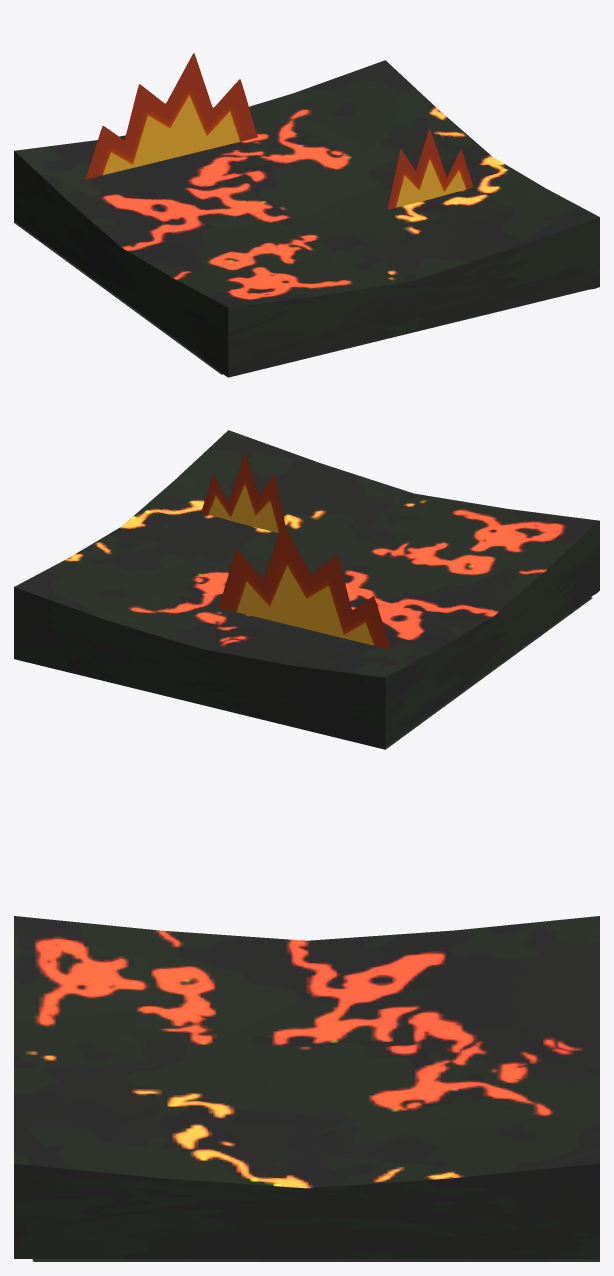
File: 3FireTile1.fbx
3 views of the same model, one above another, from view 1: azimuth 30°, elevation 25°; view 2: azimuth 150°, elevation 25°; view 3: azimuth 270°, elevation 25° (orthographic). The views are drawn at different scales.
Visible parts, largest first — view 1: 3FireTile1, 3BurningFire, 1BurningFire.009; view 2: 3FireTile1, 3BurningFire, 1BurningFire.009; view 3: 3FireTile1.
Boxes of the visible parts, x1=… form: 3FireTile1: x1=14, y1=60, x2=599, y2=377; 3BurningFire: x1=85, y1=53, x2=257, y2=179; 1BurningFire.009: x1=387, y1=128, x2=473, y2=209; 3FireTile1: x1=14, y1=430, x2=599, y2=749; 3BurningFire: x1=219, y1=523, x2=390, y2=649; 1BurningFire.009: x1=201, y1=454, x2=285, y2=532; 3FireTile1: x1=14, y1=916, x2=599, y2=1261.
Bounding box in the file's own units: 200 × 95.11 × 200.
3 materials, 3 textured.
